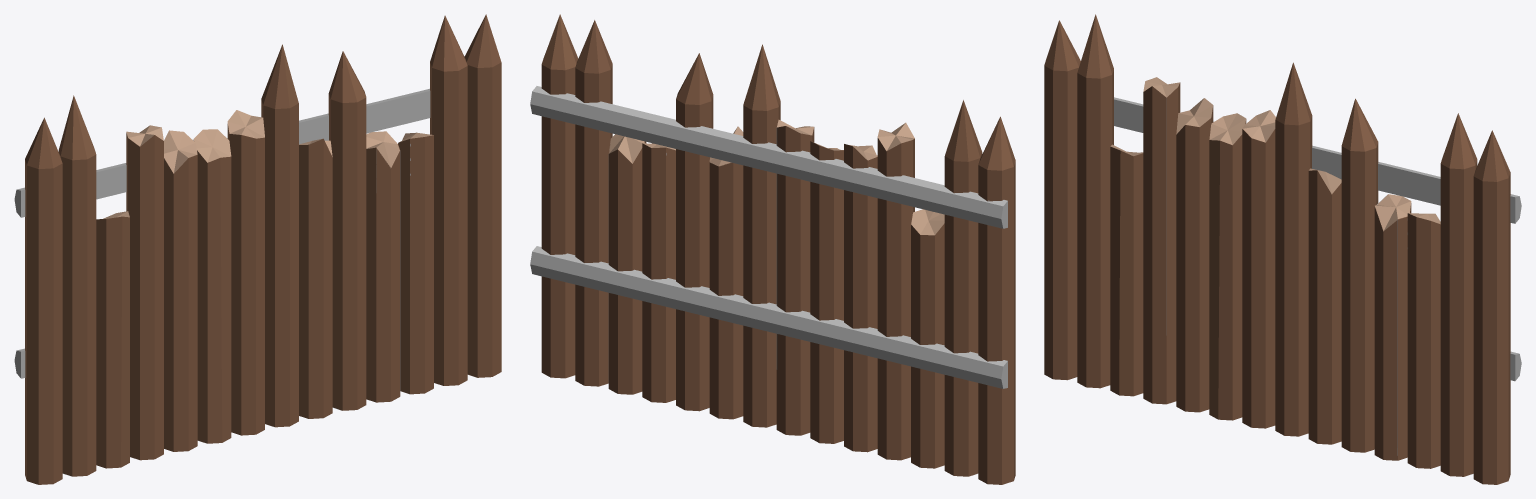
File: Defense_WallModel_D1.fbx
3 renders of one model, left to right at view 1: azimuth 30°, elevation 25°; view 2: azimuth 150°, elevation 25°; view 3: azimuth 330°, elevation 25°, orthographic. The views are drawn at different scales.
Visible parts, largest first — view 1: Cylinder, Cube; view 2: Cylinder, Cube; view 3: Cylinder, Cube.
Boxes of the visible parts, box(x1,y1,x2,y2) form: Cylinder: box(25, 14, 501, 484); Cube: box(14, 88, 430, 378); Cylinder: box(541, 14, 1015, 484); Cube: box(530, 86, 1007, 388); Cylinder: box(1044, 14, 1510, 484); Cube: box(1114, 97, 1521, 381).
Bounding box in the file's own units: 800 × 607 × 65.11.
